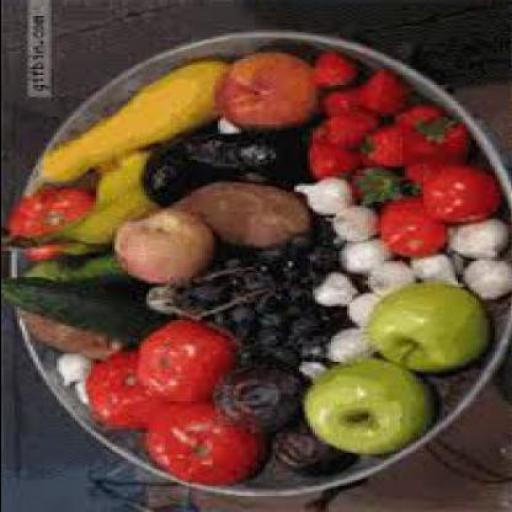biodegradable: (21, 61, 224, 194), (8, 152, 153, 257), (299, 362, 430, 460), (364, 286, 489, 374), (166, 182, 309, 256), (140, 402, 258, 488), (0, 282, 156, 346), (211, 54, 312, 134), (132, 324, 232, 403), (108, 212, 211, 286), (1, 186, 90, 263), (84, 346, 156, 434), (211, 368, 299, 437), (264, 419, 348, 478), (21, 312, 119, 362), (375, 195, 441, 259), (393, 109, 465, 164), (232, 132, 303, 186), (132, 146, 198, 202), (440, 219, 510, 263), (171, 134, 235, 182), (345, 162, 409, 210), (16, 259, 124, 286), (301, 132, 354, 184), (287, 180, 349, 224), (358, 128, 416, 172), (285, 308, 343, 348), (312, 118, 376, 153), (354, 73, 403, 117), (456, 263, 510, 302), (358, 262, 412, 298), (394, 160, 440, 202), (325, 209, 374, 245), (306, 54, 356, 89), (336, 241, 382, 277), (320, 328, 362, 366), (306, 274, 351, 309), (196, 253, 245, 285), (314, 91, 364, 121), (412, 257, 456, 291), (53, 356, 90, 390), (340, 293, 372, 330), (274, 286, 304, 324), (177, 287, 219, 314), (140, 291, 176, 318), (250, 324, 278, 356), (250, 246, 278, 272), (303, 249, 333, 273), (290, 362, 319, 384), (280, 237, 306, 261), (243, 273, 264, 302), (277, 260, 301, 285), (230, 346, 256, 368), (232, 314, 254, 340), (258, 298, 277, 324), (266, 350, 290, 370), (206, 122, 240, 136), (219, 280, 240, 302), (227, 304, 248, 322), (74, 382, 82, 408)
